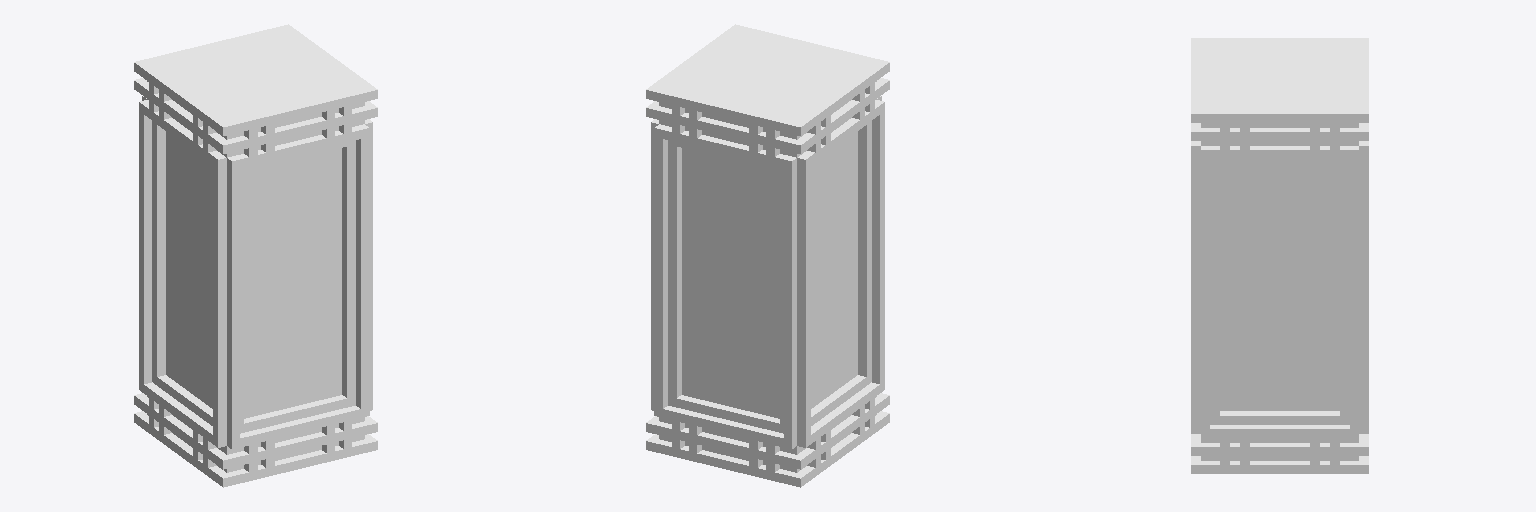
The model's file is Pillar1.obj.
3 views of the same model, side by side, from view 1: azimuth 30°, elevation 25°; view 2: azimuth 150°, elevation 25°; view 3: azimuth 270°, elevation 25° (orthographic).
Visible parts, largest first — view 1: object 1; view 2: object 1; view 3: object 1.
Part boxes in pixels (x1,y1,x2,y2): object 1: (134, 24, 377, 487); object 1: (646, 24, 889, 487); object 1: (1191, 38, 1368, 473).
Bounding box in the file's own units: 1.8 × 4 × 1.8.